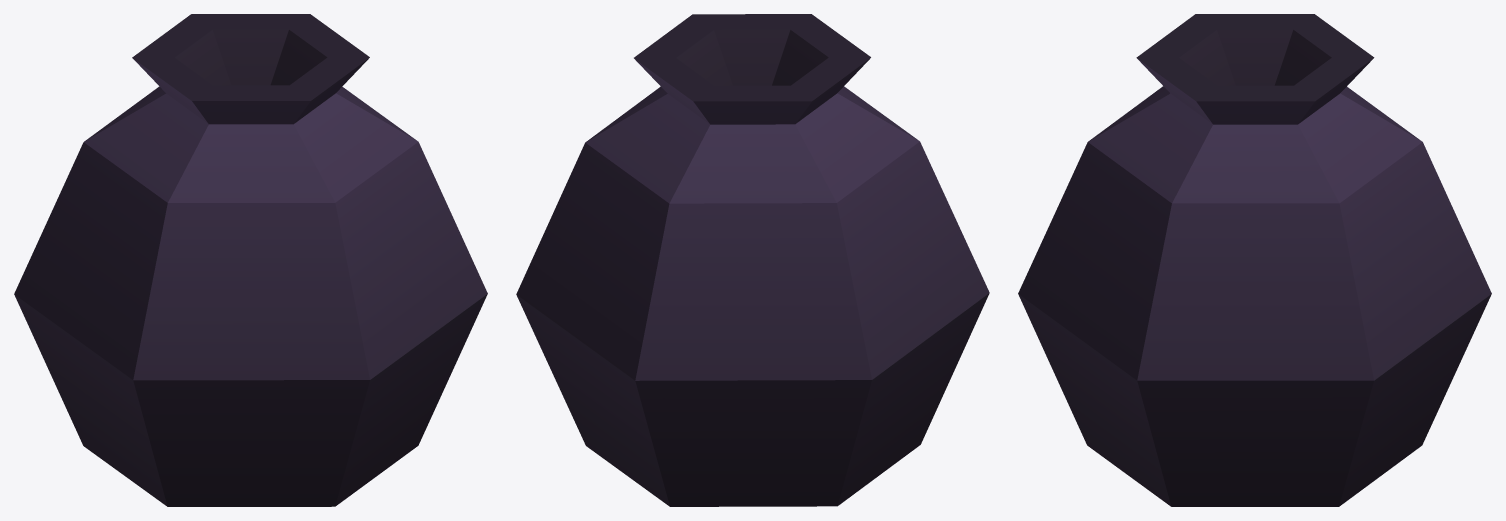
File: Blueberry Piece.fbx
3 views of the same model, side by side, from view 1: azimuth 30°, elevation 25°; view 2: azimuth 150°, elevation 25°; view 3: azimuth 270°, elevation 25° (orthographic).
Visible parts, largest first — view 1: Blueberry Piece; view 2: Blueberry Piece; view 3: Blueberry Piece.
Part boxes in pixels (x1,y1,x2,y2): Blueberry Piece: (14, 14, 487, 506); Blueberry Piece: (516, 14, 989, 506); Blueberry Piece: (1018, 14, 1491, 506).
Size of the model in its own units: 4.43 by 5.01 by 5.11.
